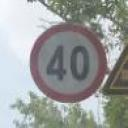speed_limit_40: (29, 24, 106, 103)
